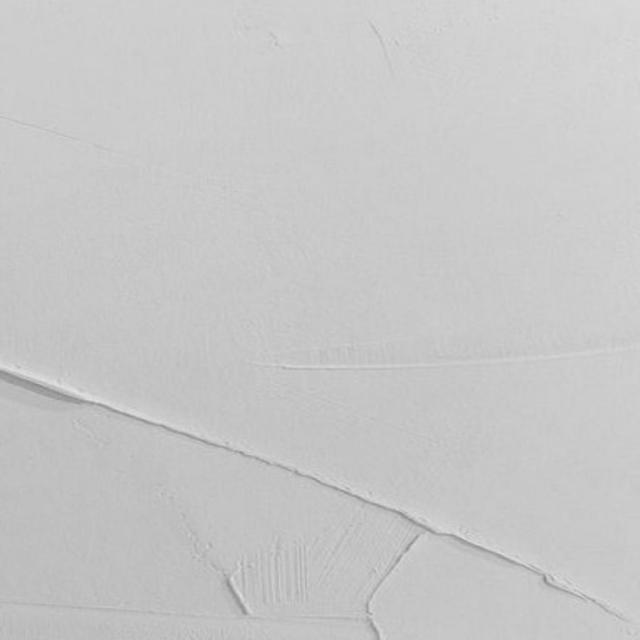trowels marks: (1, 359, 640, 640), (0, 106, 246, 203), (233, 325, 640, 382), (328, 0, 432, 107)
